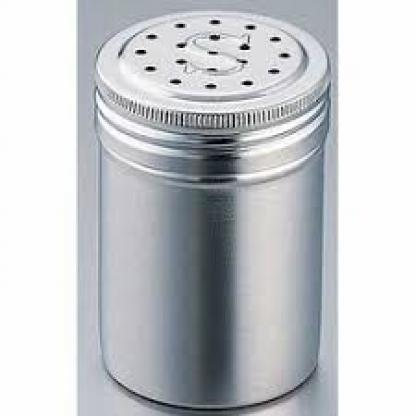METAL: (94, 9, 329, 405)
